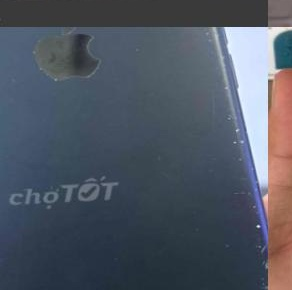scratch: (19, 27, 102, 85), (232, 182, 268, 290), (210, 71, 249, 165), (0, 27, 14, 82), (198, 27, 221, 44)
